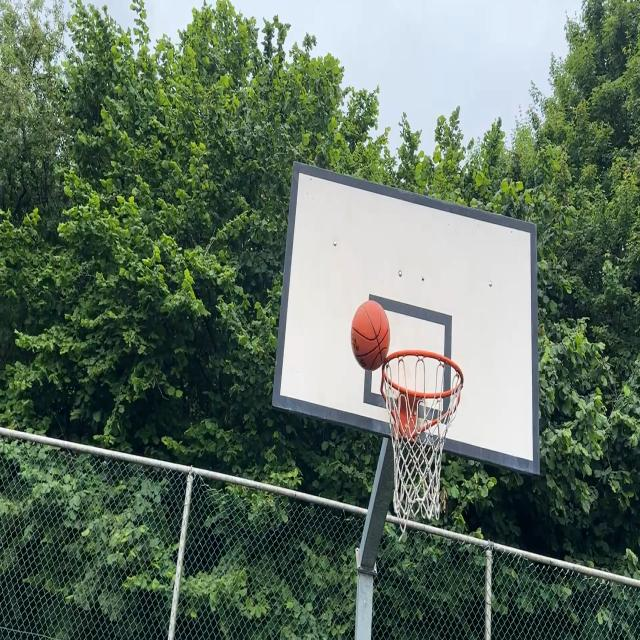rebound_hit: (351, 299, 393, 376)
